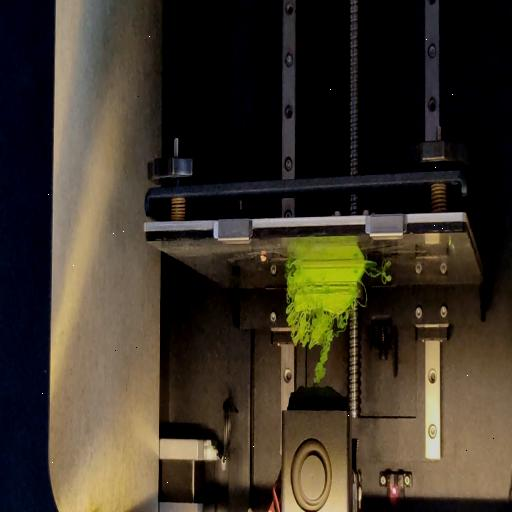spaghetti: (288, 309, 346, 387), (365, 269, 394, 285), (357, 278, 366, 312), (288, 255, 296, 271)
